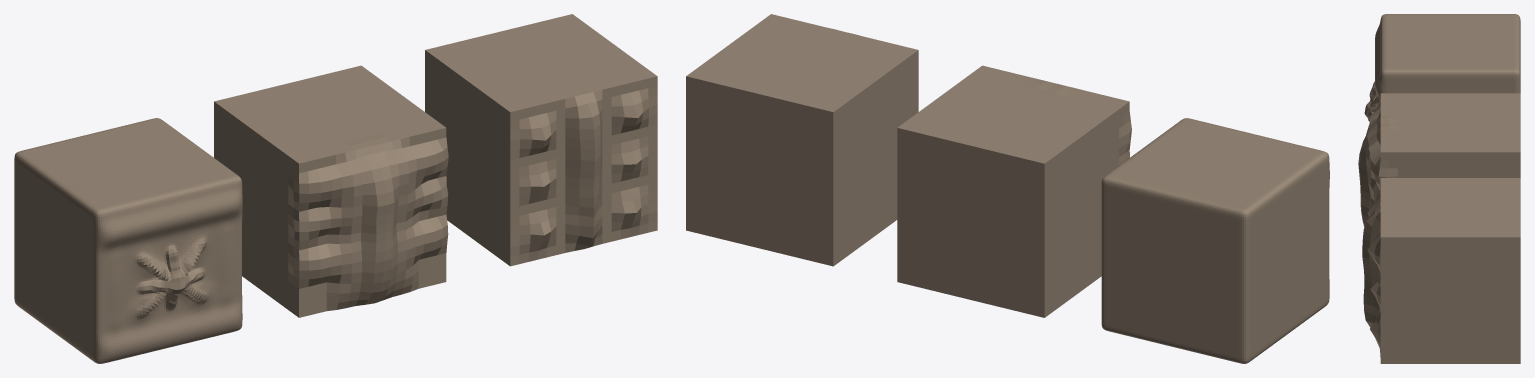
The model's file is MazeWall2.fbx.
3 renders of one model, left to right at view 1: azimuth 30°, elevation 25°; view 2: azimuth 150°, elevation 25°; view 3: azimuth 270°, elevation 25°, orthographic. The views are drawn at different scales.
Visible parts, largest first — view 1: Cube, Cube.002, Cube.001; view 2: Cube, Cube.002, Cube.001; view 3: Cube.002, Cube.001, Cube.
Boxes of the visible parts, x1,y1,x2,y2 form: Cube: [14, 118, 242, 363]; Cube.002: [425, 14, 657, 266]; Cube.001: [214, 65, 448, 317]; Cube: [1101, 118, 1329, 363]; Cube.002: [686, 14, 918, 266]; Cube.001: [897, 65, 1131, 317]; Cube.002: [1362, 178, 1520, 363]; Cube.001: [1358, 93, 1520, 226]; Cube: [1364, 14, 1520, 121].
Size of the model in its own units: 761 by 204 by 232.
